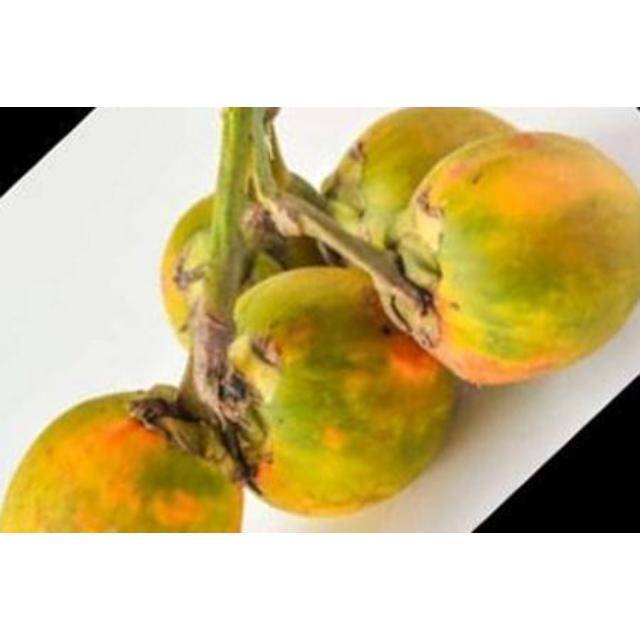good: (394, 132, 638, 386), (220, 265, 458, 517), (0, 392, 238, 532), (323, 108, 515, 264), (161, 191, 315, 351)
